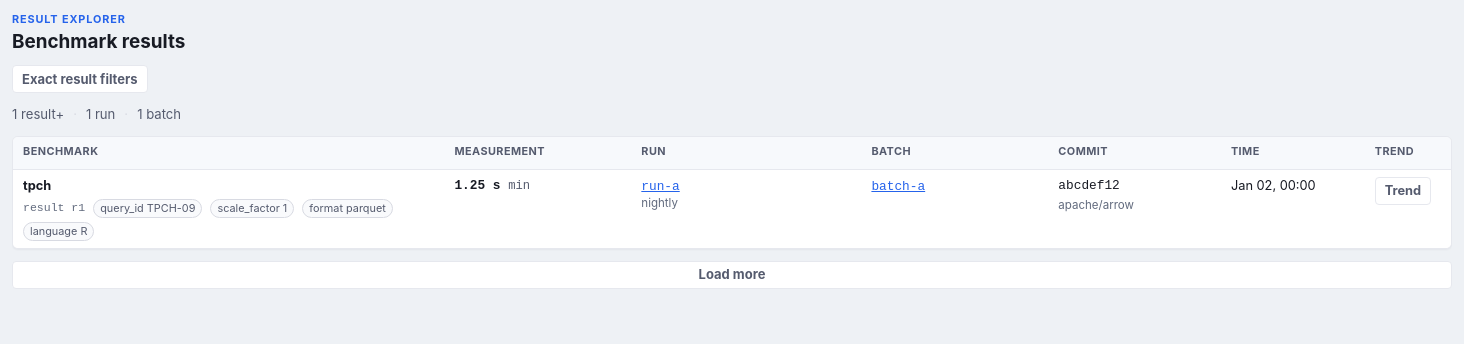
it: ResultsPage › loads and appends the next page
Expected: the text "result r1" is shown, [23, 200, 85, 217]
What coordinates should you click on to do the following:
click the button "Load more"
I would click on:
 (732, 275)
Its box is [12, 261, 1452, 289].
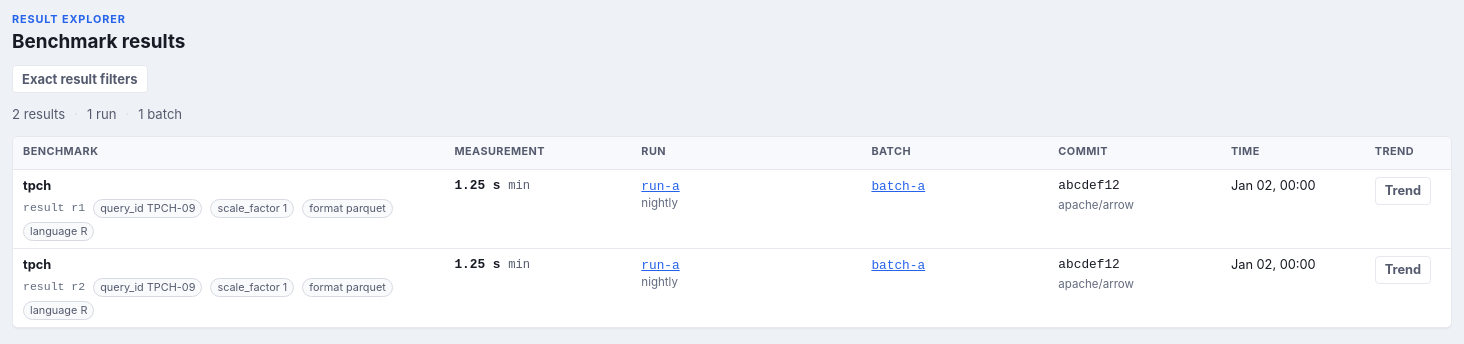
Expected: the text "result r2" is shown, [23, 279, 85, 296]
Expected: the button "Load more" is gone
